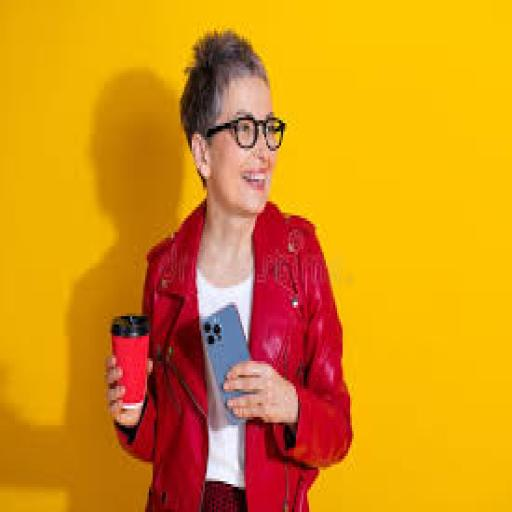phone: (202, 305, 251, 425)
red mug: (112, 317, 150, 408)
